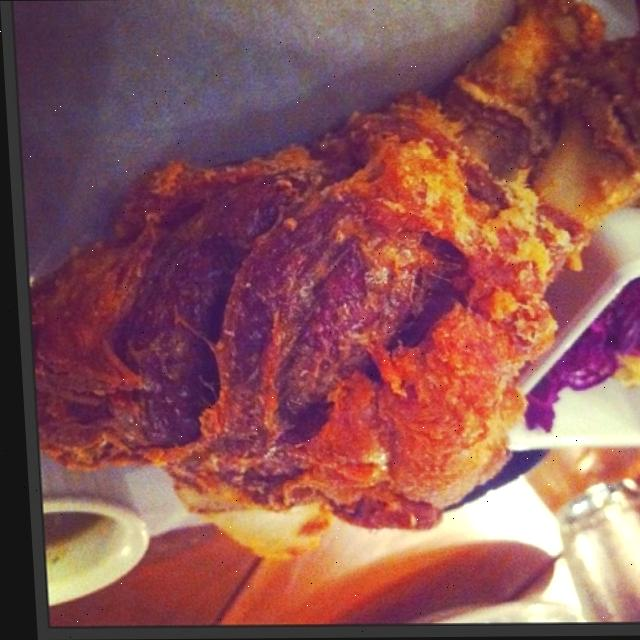猪肉菜式: (27, 13, 640, 560)
